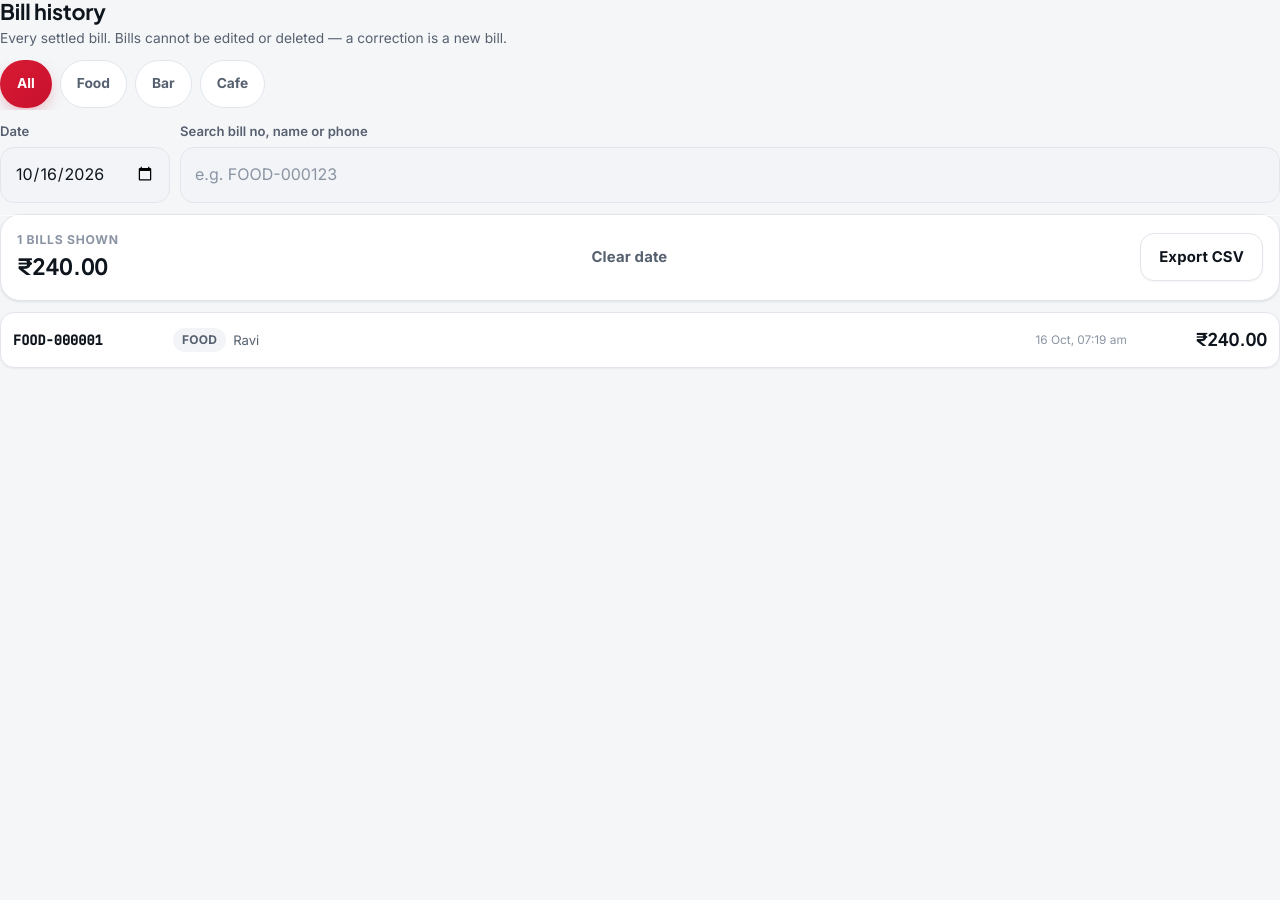
Test: bill history › offers no way to edit or delete a bill — they are immutable
The image size is (1280, 900).
Click the text "FOOD-000001". click: (58, 340)
box: [13,330,103,348]
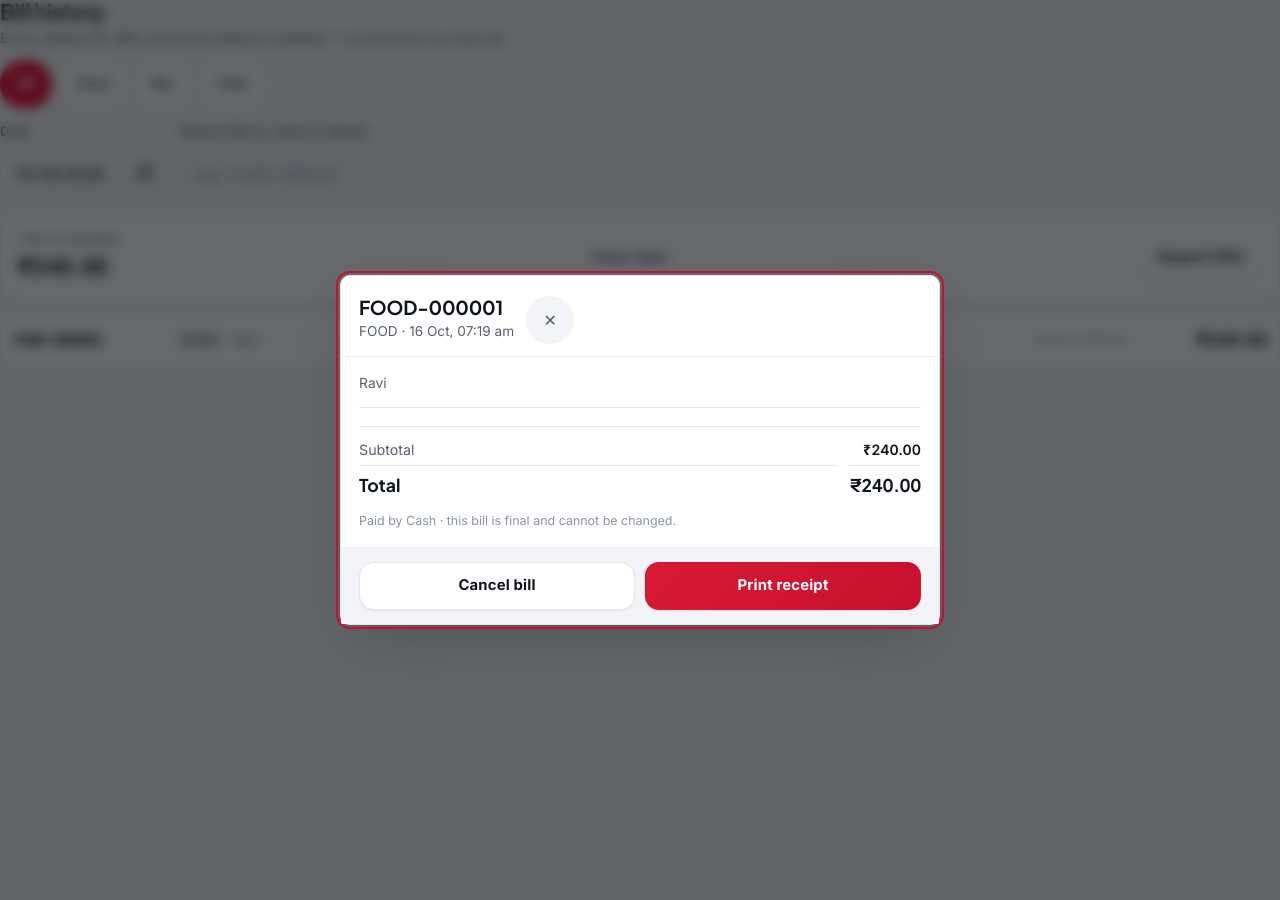
Check: the text "Paid by Cash · this bill is final and cannot be changed." is shown, box [359,513,676,528]
